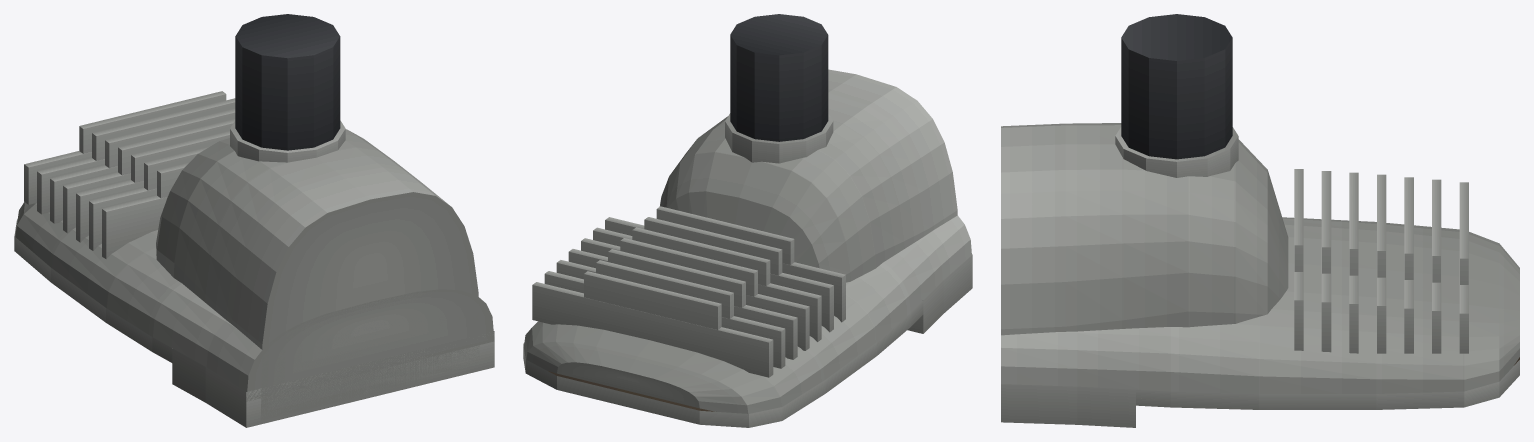
Rendered from streetlight_geelsn.obj.
The picture shows the model from 3 angles, left to right: view 1: azimuth 30°, elevation 25°; view 2: azimuth 150°, elevation 25°; view 3: azimuth 270°, elevation 25°; orthographic projection. The views are drawn at different scales.
Visible parts, largest first — view 1: fixture; view 2: fixture; view 3: fixture.
Boxes of the visible parts, x1,y1,x2,y2 form: fixture: (14,14,494,427); fixture: (523,14,972,427); fixture: (1001,14,1519,427).
Size of the model in its own units: 0.375 by 0.3768 by 0.5531.
